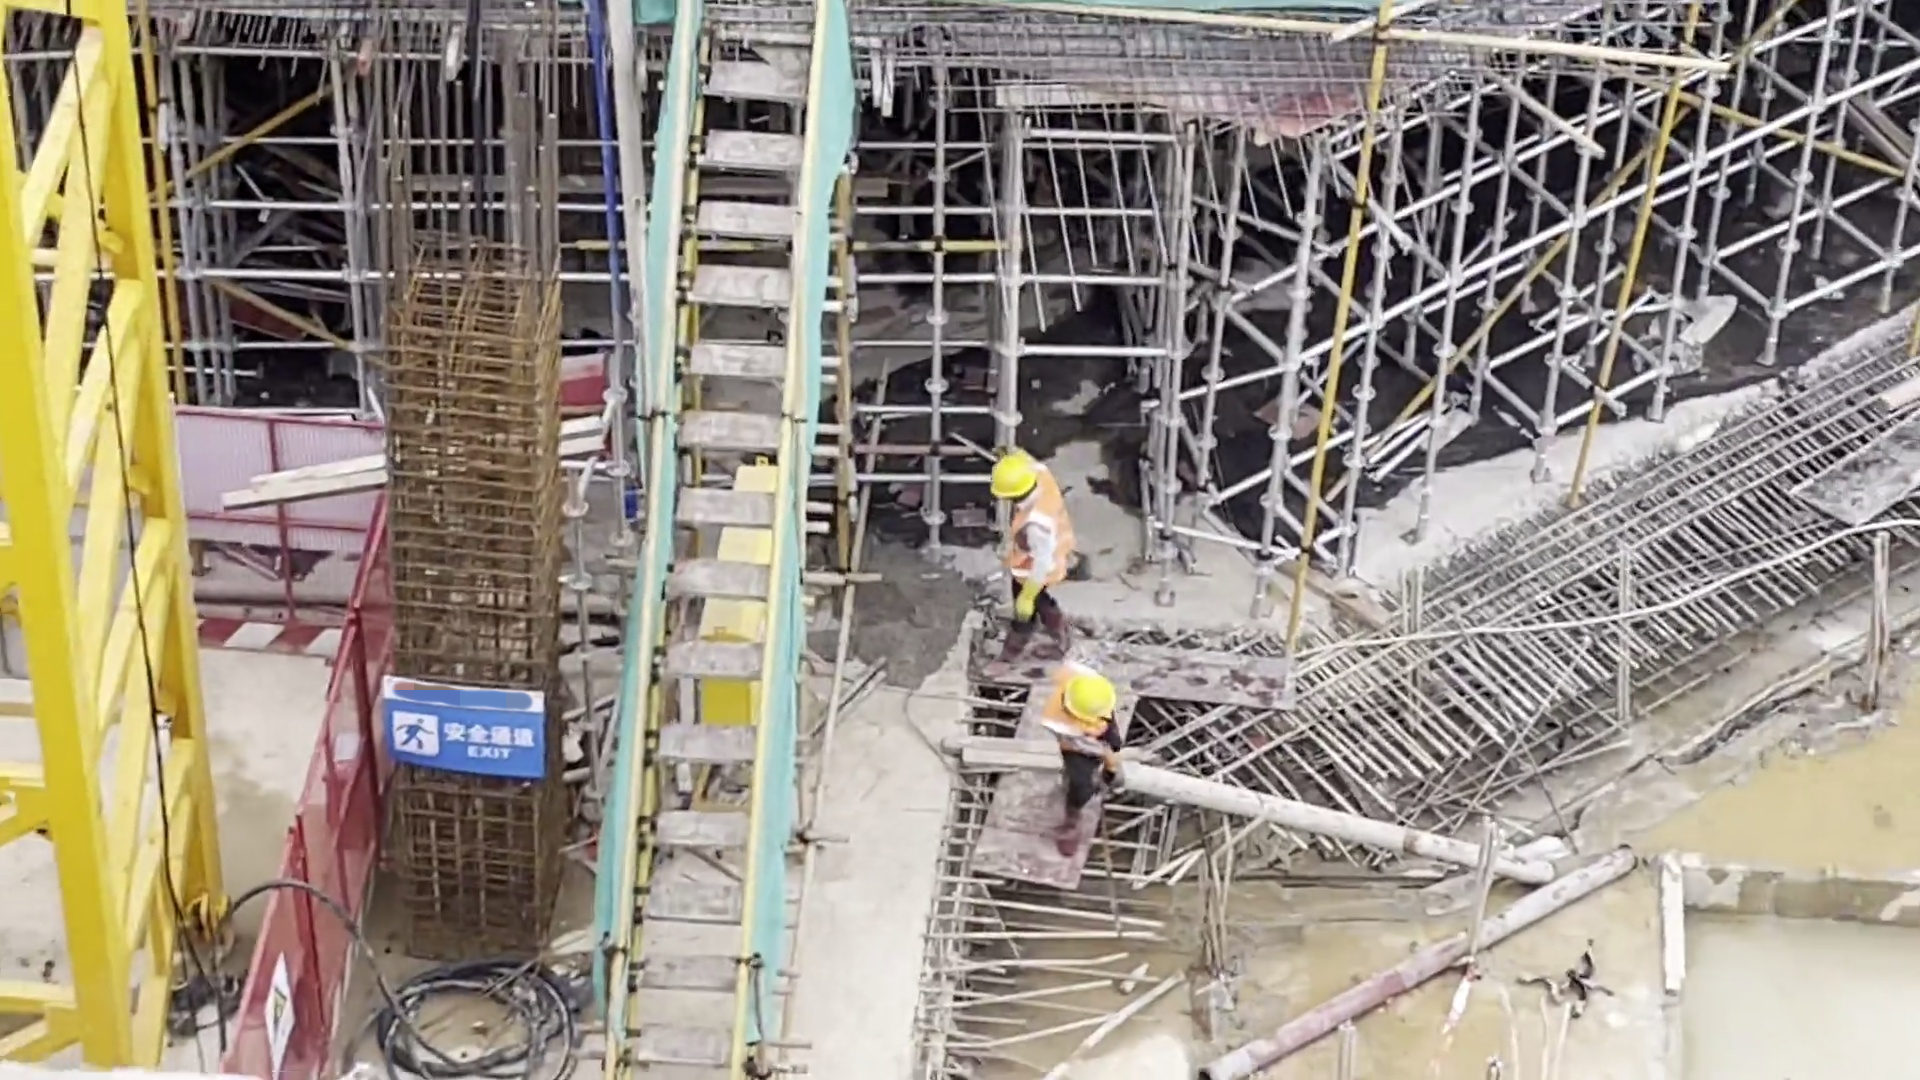ebox: (685, 454, 830, 765)
fence: (230, 443, 432, 1080), (137, 416, 391, 542)
helmet: (1063, 667, 1115, 717), (989, 453, 1036, 502)
person: (984, 442, 1071, 657), (1044, 663, 1125, 848)
vest: (1014, 463, 1067, 573)
